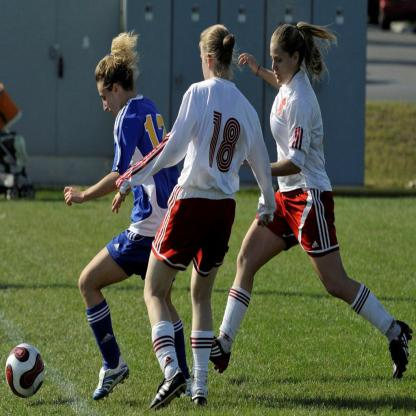face: (270, 46, 293, 85), (100, 80, 121, 118)
